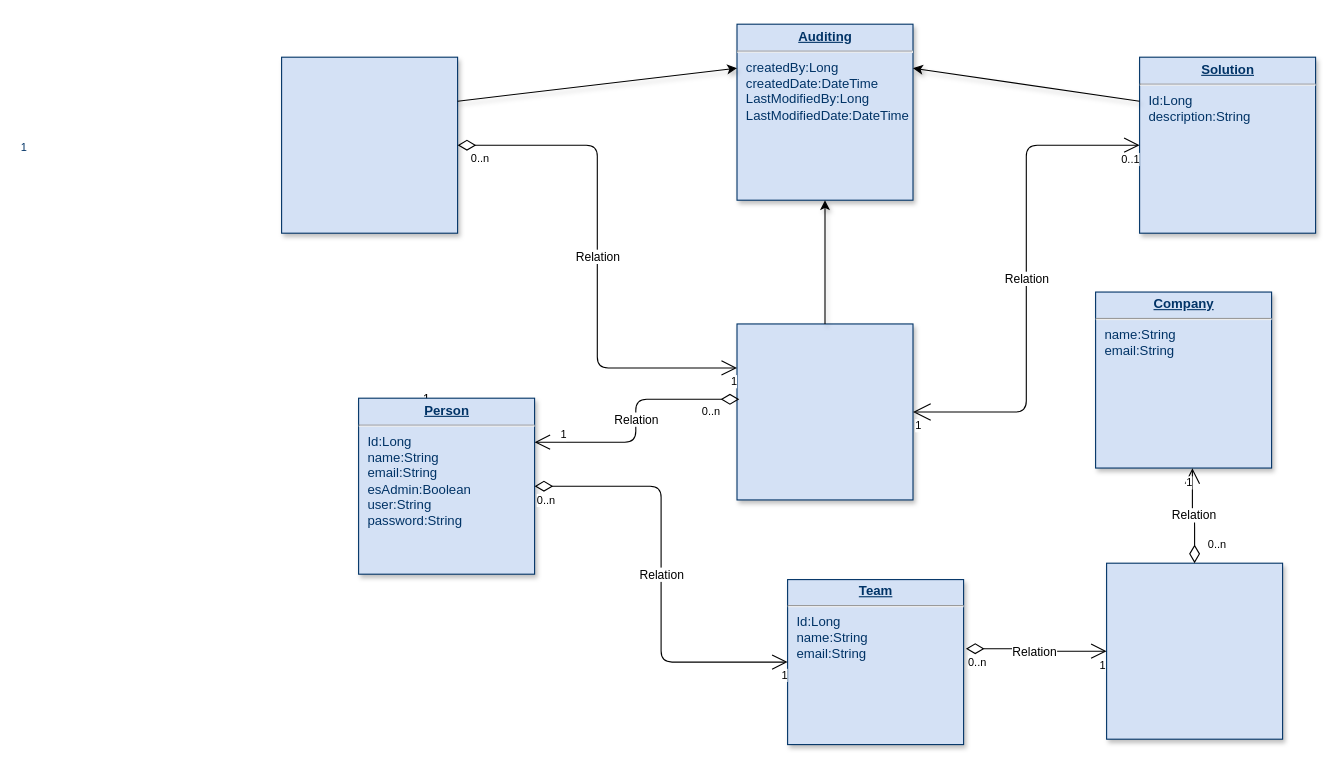
This 1341x771 diagram has some shape labels left out. The shapes that lost their labels are listed below. From the top down, each one's centre as x and y in pixels, then its label:
At point 370,146: "Answer Id:Long description:String".
At point 826,413: "Incidence Id:Long title:String description:String solved:Boolean".
At point 1195,652: "Department Id:Long name:String email:String".
